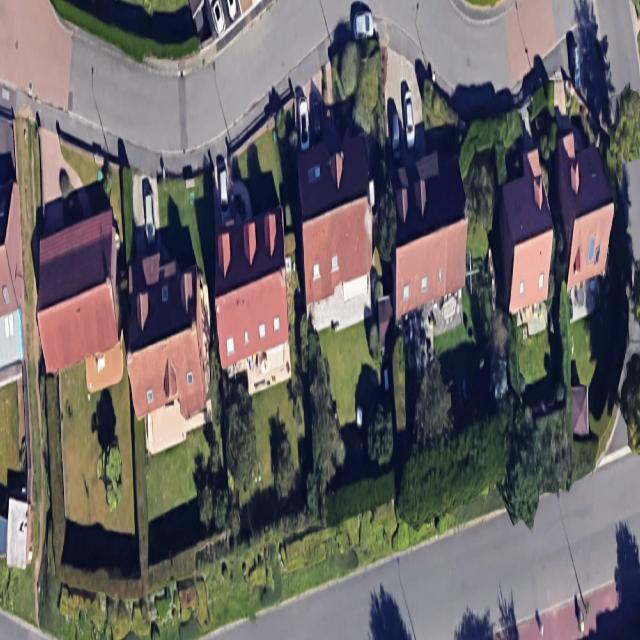maison: (28, 206, 126, 397), (123, 252, 212, 456), (380, 149, 470, 324), (211, 205, 292, 398), (297, 130, 373, 335), (551, 129, 623, 324), (490, 144, 557, 335)
